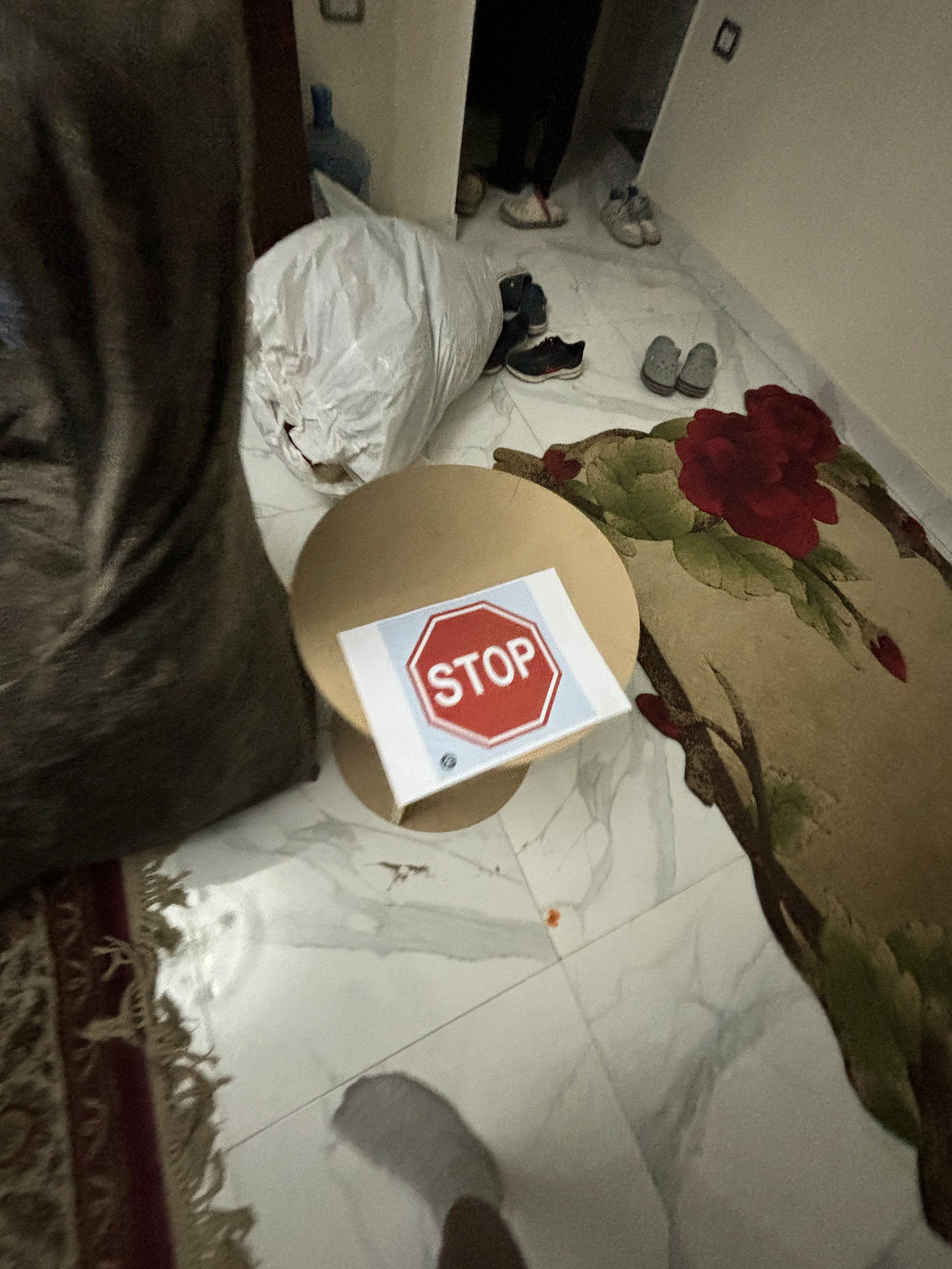Stop: (405, 597, 572, 753)
